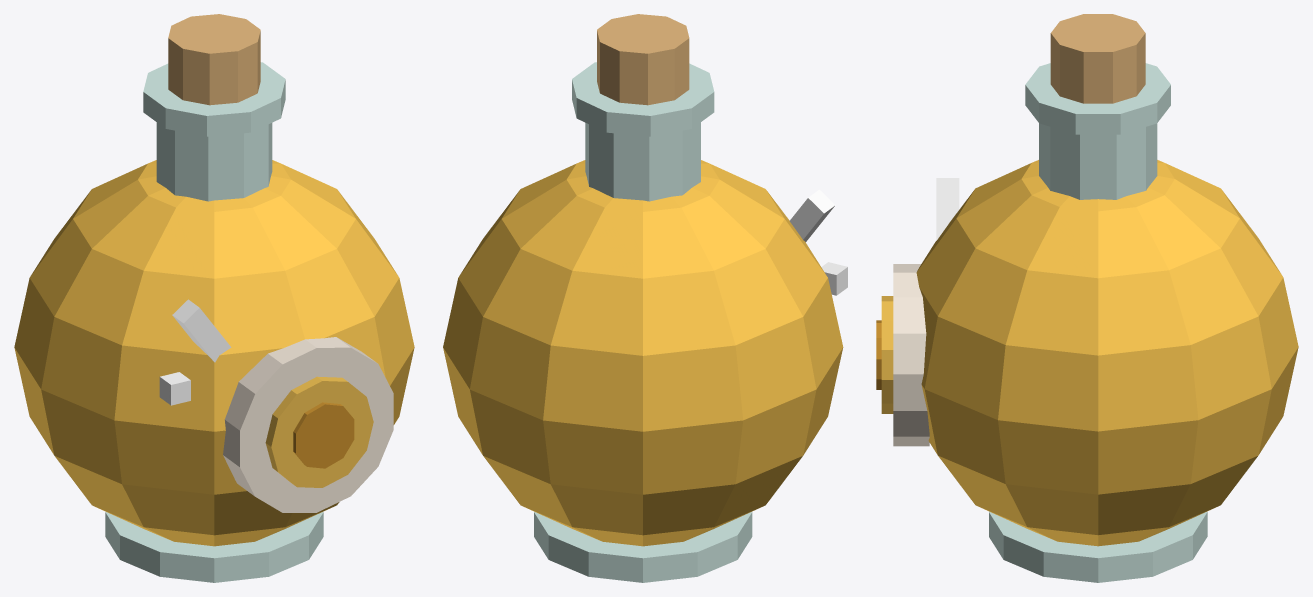
The model's file is CatCafe_Prop_Potion_Tip.glb.
The picture shows the model from 3 angles, left to right: view 1: azimuth 30°, elevation 25°; view 2: azimuth 150°, elevation 25°; view 3: azimuth 270°, elevation 25°; orthographic projection.
Parts seen in each view (by area): view 1: CatCafe_Prop_Potion_Tip; view 2: CatCafe_Prop_Potion_Tip; view 3: CatCafe_Prop_Potion_Tip.
Boxes of the visible parts, <box> form: CatCafe_Prop_Potion_Tip: <box>14,14,414,582</box>; CatCafe_Prop_Potion_Tip: <box>443,14,847,582</box>; CatCafe_Prop_Potion_Tip: <box>876,14,1298,582</box>.
Bounding box in the file's own units: 0.88 × 1.22 × 0.927.
Materials: 1 (1 with a texture image).
